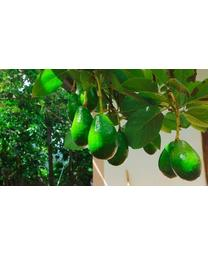avocado: (87, 112, 118, 160), (170, 137, 202, 183), (159, 141, 185, 178), (71, 106, 92, 147)
